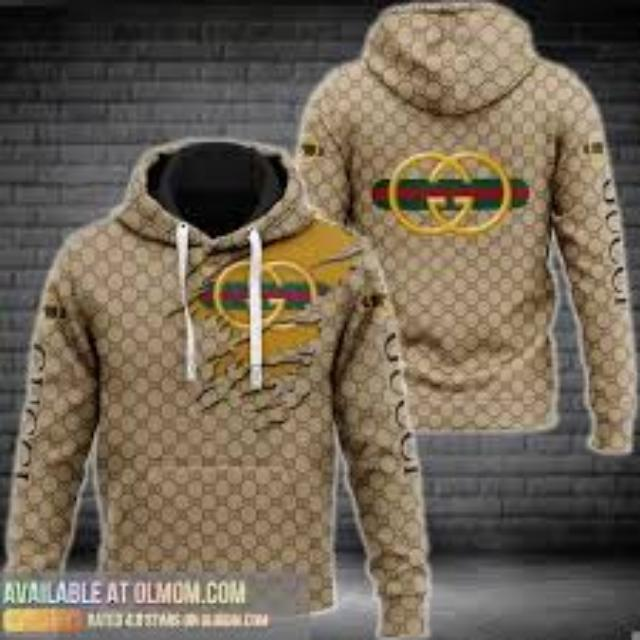Gucci: (383, 146, 517, 238), (212, 254, 331, 336), (12, 314, 54, 506), (380, 328, 426, 479), (596, 169, 640, 315)
